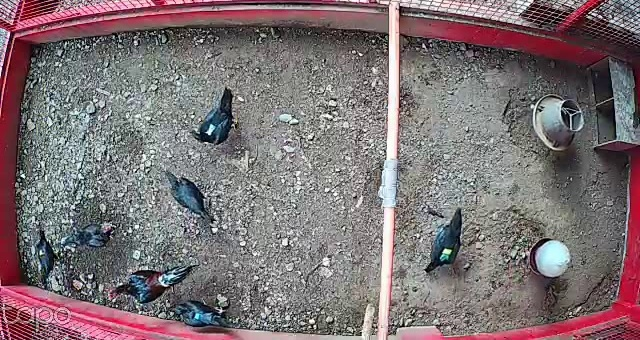Chicken: (164, 168, 221, 226), (422, 204, 467, 275), (186, 89, 240, 148), (57, 212, 123, 252), (33, 225, 66, 288)
Rooster: (108, 261, 197, 307)
Saddle_Color_White: (205, 129, 212, 135)
Saddle_Color_YellowGreen: (438, 248, 453, 262)
